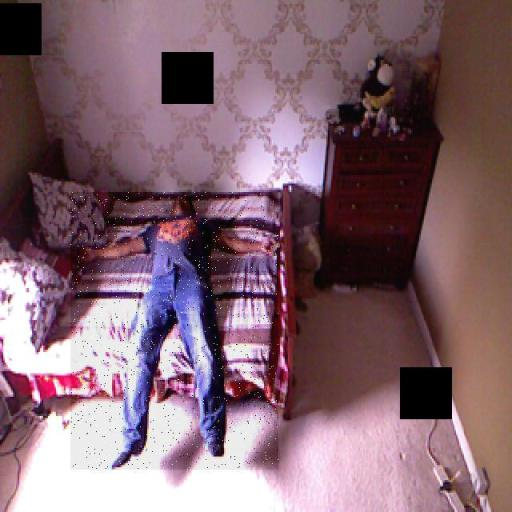Fall: (71, 192, 279, 470)
